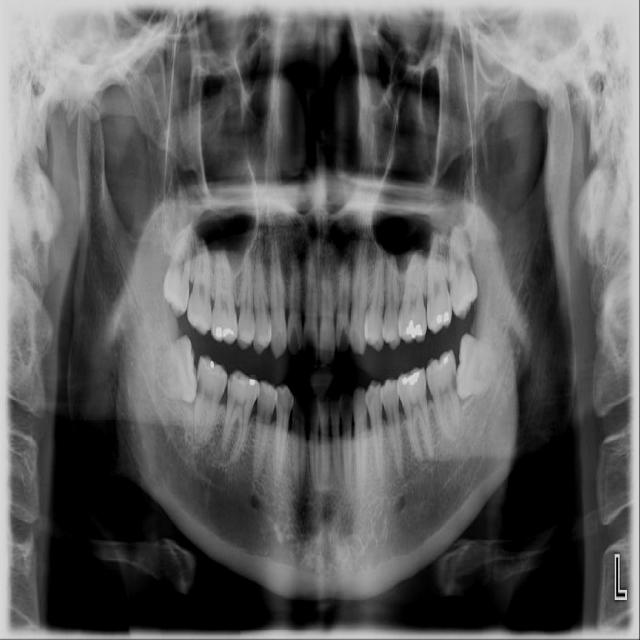Caries: (450, 373, 457, 392)
Filling: (433, 311, 454, 330), (212, 328, 238, 342), (405, 319, 426, 336), (401, 371, 421, 385), (202, 357, 218, 370), (441, 354, 450, 365), (249, 379, 259, 387)
impacted tooth: (148, 337, 195, 401), (457, 334, 504, 398), (165, 216, 195, 311), (449, 227, 477, 318)
